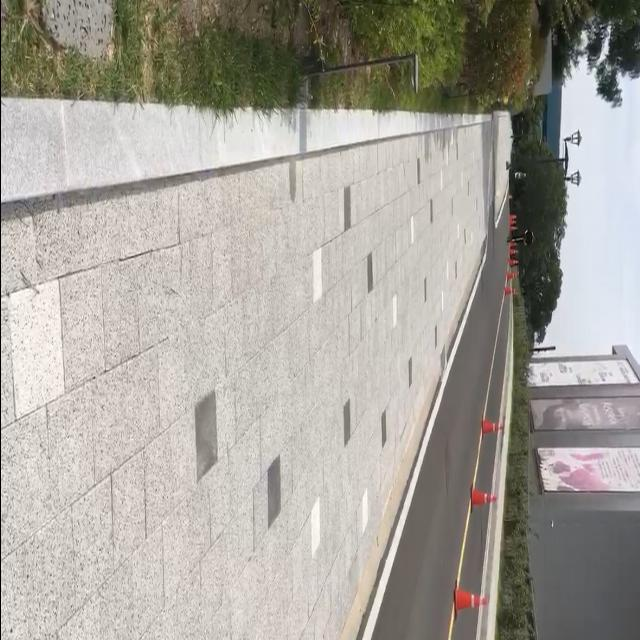obstacle: (452, 571, 493, 630), (469, 471, 500, 518), (478, 413, 511, 448)
road: (337, 192, 512, 640)
sidewalk: (0, 102, 492, 640), (479, 335, 514, 640), (491, 110, 511, 216)
